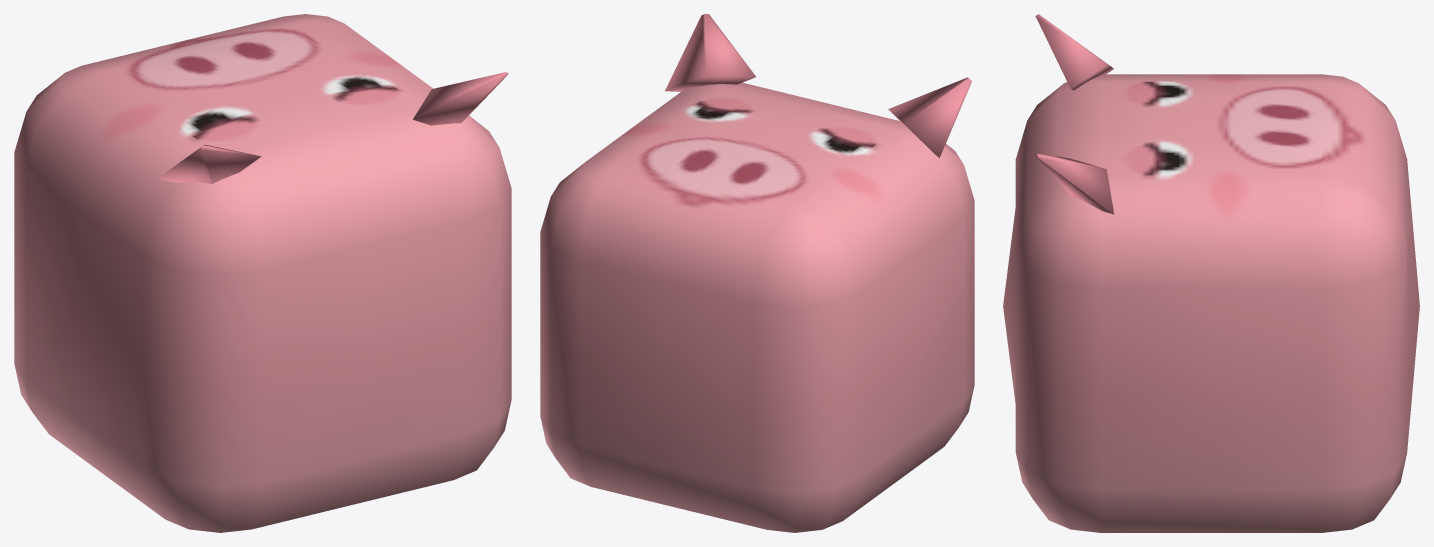
The model's file is Pig_1x1.fbx.
3 renders of one model, left to right at view 1: azimuth 30°, elevation 25°; view 2: azimuth 150°, elevation 25°; view 3: azimuth 270°, elevation 25°, orthographic. The views are drawn at different scales.
Visible parts, largest first — view 1: Pig_1x1; view 2: Pig_1x1; view 3: Pig_1x1.
Boxes of the visible parts, x1,y1,x2,y2 form: Pig_1x1: (14,14,511,532); Pig_1x1: (540,14,974,532); Pig_1x1: (1003,14,1419,532).
Size of the model in its own units: 0.98 by 0.9771 by 0.98.
Materials: 1 (1 with a texture image).
